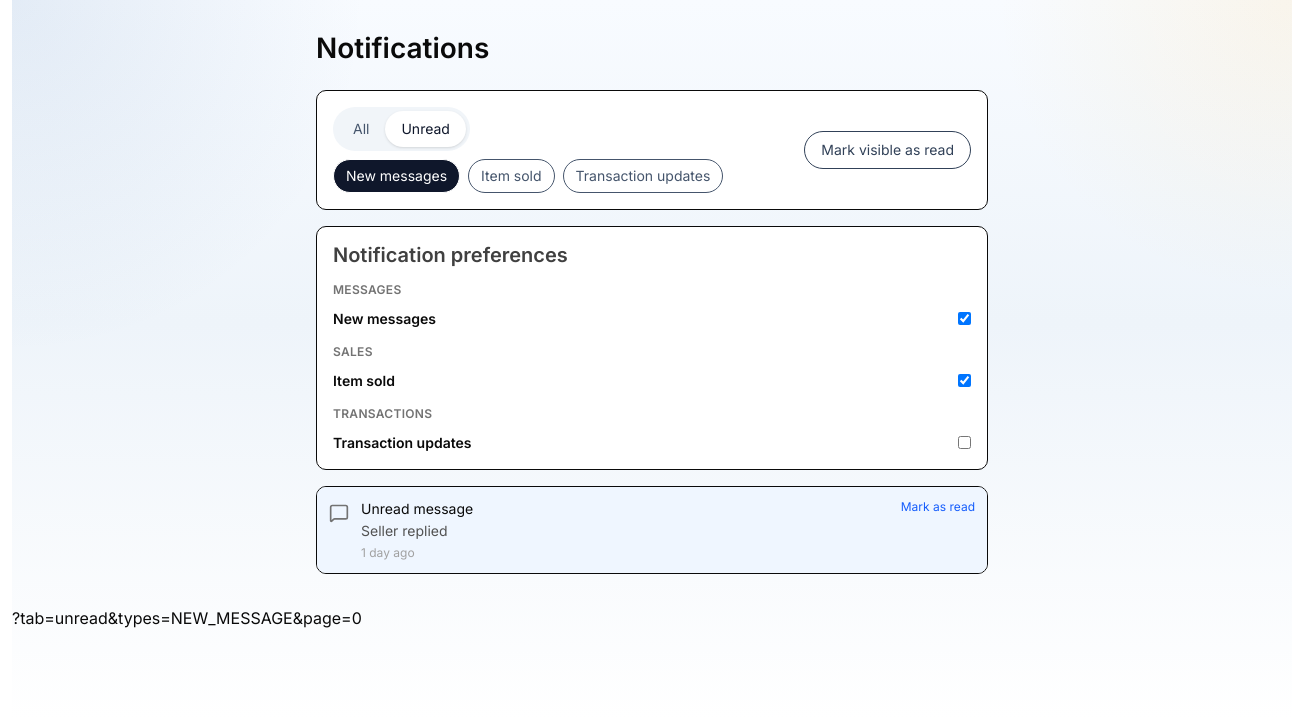
Test: Notification management contracts › mark visible as read only affects the currently filtered rows
Check: the text "Unread message" is shown, box x1=361 y1=500 x2=473 y2=516
Click the button "Mark visible as read".
click(888, 150)  # box x1=804 y1=131 x2=971 y2=169
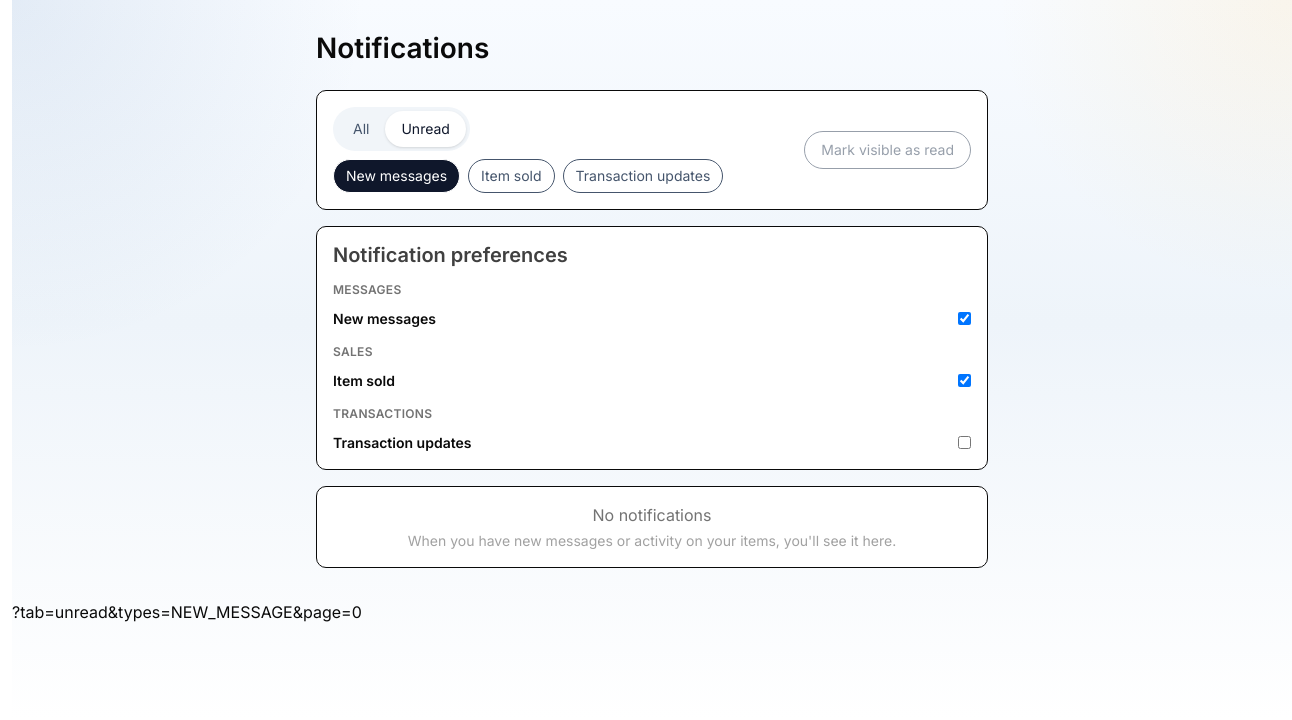
Check: the button "Unread message" is gone
